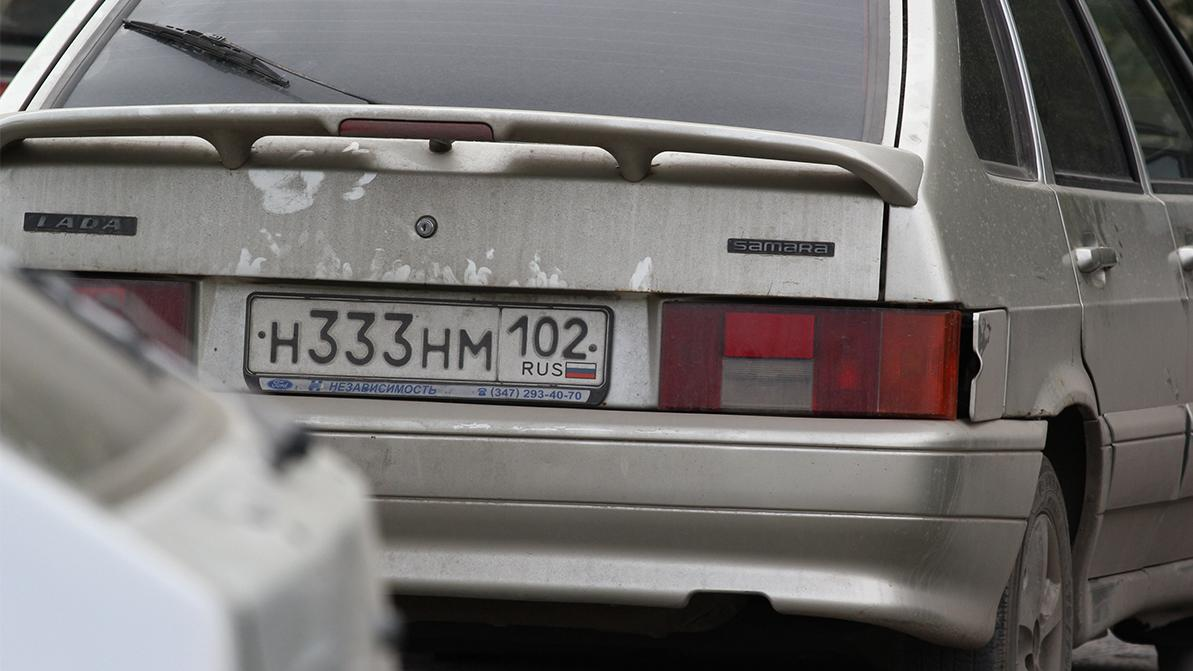number_plate: (234, 300, 614, 382)
